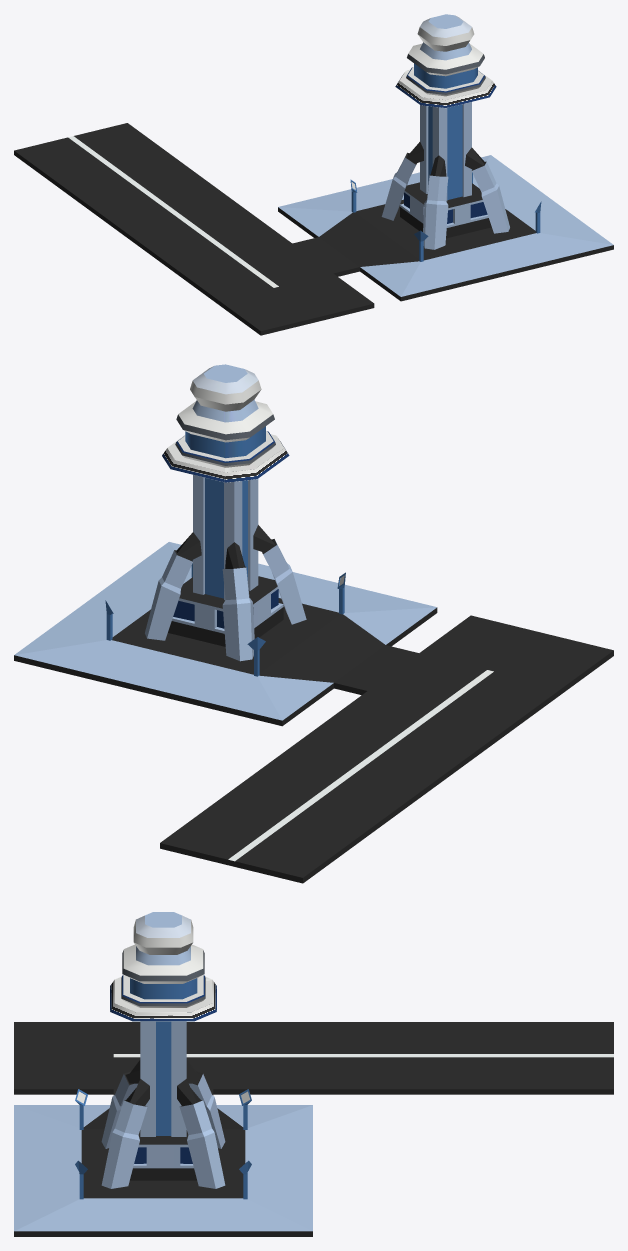
The model's file is KosmodromLevel1.fbx.
The picture shows the model from 3 angles, top to bottom: view 1: azimuth 30°, elevation 25°; view 2: azimuth 150°, elevation 25°; view 3: azimuth 270°, elevation 25°; orthographic projection. The views are drawn at different scales.
Parts seen in each view (by area): view 1: Cube, Cylinder, Cube.002, Cube.003, Cube.001, Cube.004; view 2: Cube, Cylinder, Cube.002, Cube.003, Cube.001, Cube.004; view 3: Cube, Cylinder, Cube.002, Cube.003, Cube.001, Cube.004.
Boxes of the visible parts, x1,y1,x2,y2 form: Cube: [14, 123, 613, 335]; Cylinder: [395, 14, 496, 108]; Cube.002: [381, 142, 509, 249]; Cube.003: [420, 102, 471, 201]; Cube.001: [400, 182, 491, 238]; Cube.004: [350, 169, 541, 261]; Cube: [14, 542, 613, 883]; Cylinder: [162, 364, 289, 482]; Cube.002: [145, 525, 306, 661]; Cube.003: [193, 475, 258, 600]; Cube.001: [168, 576, 283, 646]; Cube.004: [105, 560, 345, 676]; Cube: [14, 1022, 613, 1236]; Cylinder: [110, 912, 216, 1021]; Cube.002: [101, 1060, 225, 1188]; Cube.003: [140, 1021, 186, 1136]; Cube.001: [130, 1130, 196, 1180]; Cube.004: [75, 1089, 251, 1199].
Bounding box in the file's own units: 21.53 × 26.07 × 12.17.
1 material, 1 textured.
